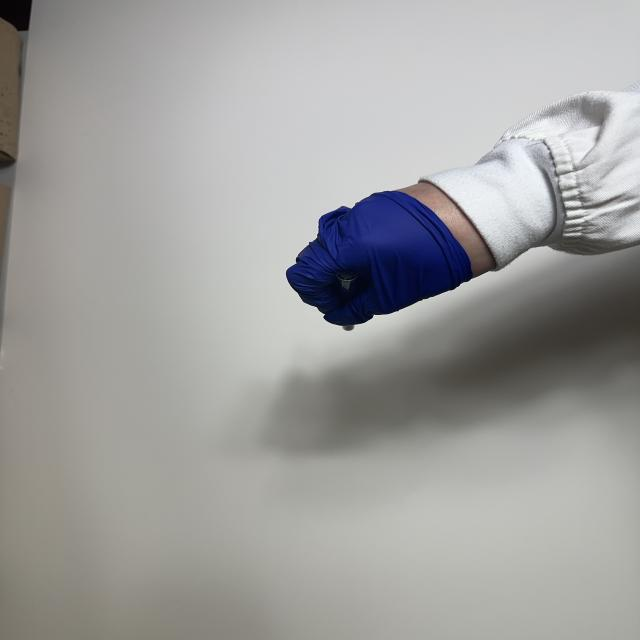glove_partial: (290, 176, 503, 328)
